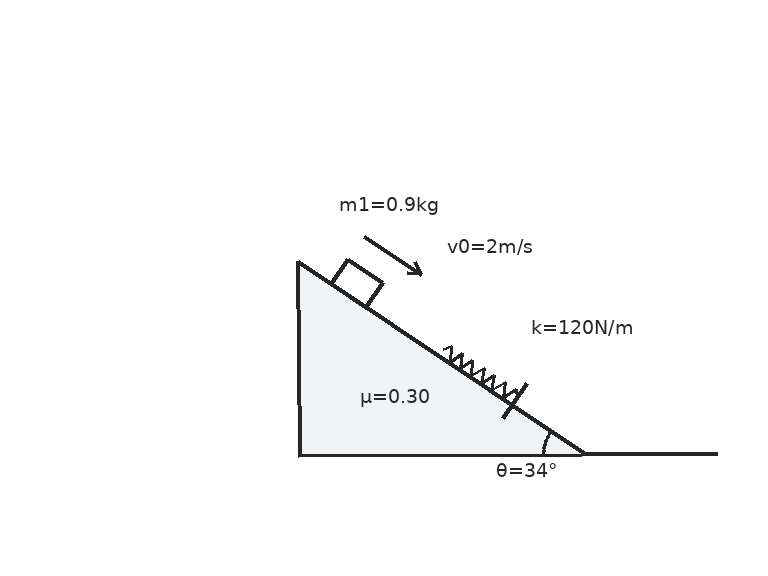block: (329, 257, 385, 309)
ramp: (296, 260, 585, 456)
spring: (441, 344, 519, 400)
